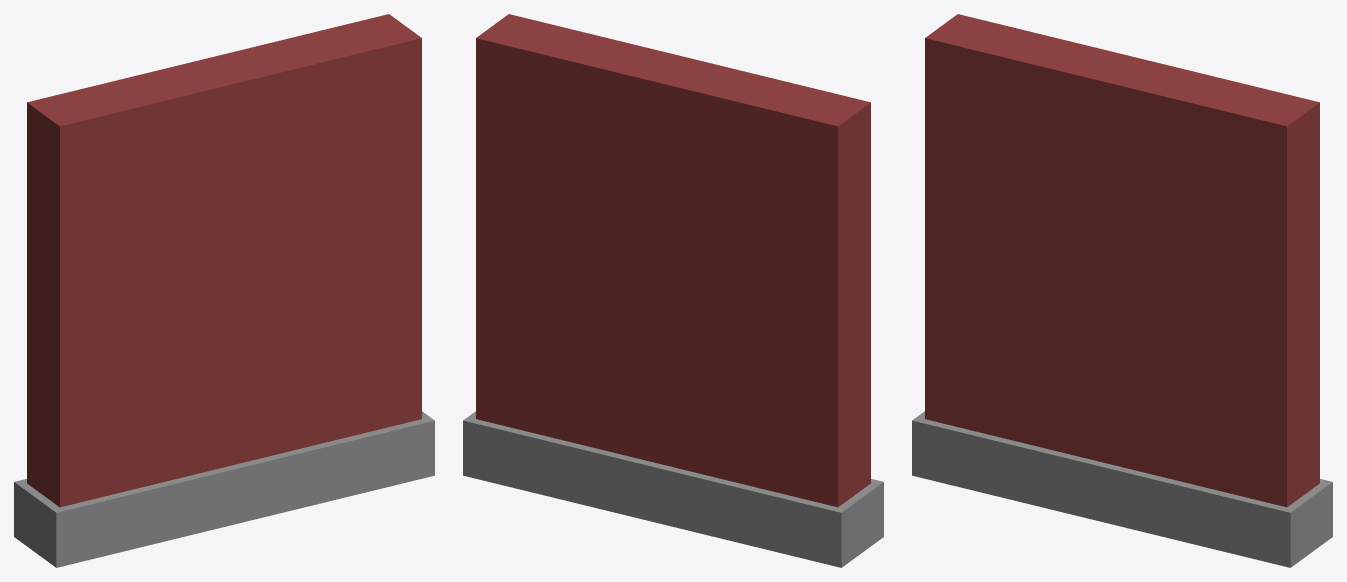
File: qiang07.FBX
The picture shows the model from 3 angles, left to right: view 1: azimuth 30°, elevation 25°; view 2: azimuth 150°, elevation 25°; view 3: azimuth 330°, elevation 25°; orthographic projection.
Visible parts, largest first — view 1: 07; view 2: 07; view 3: 07.
Boxes of the visible parts, box(x1,y1,x2,y2) form: 07: box(14, 14, 434, 567); 07: box(463, 14, 883, 567); 07: box(912, 14, 1332, 567).
Size of the model in its own units: 294 by 324 by 57.03.
